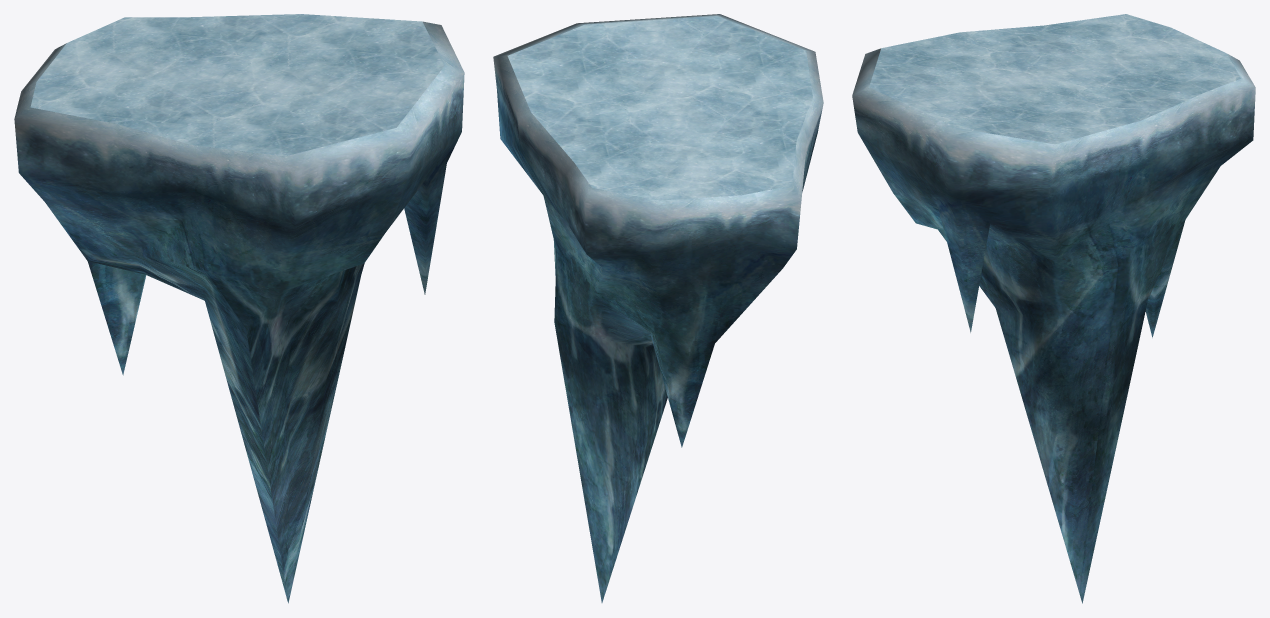
The model's file is environment_stone_dabingshi_001_d.FBX.
The picture shows the model from 3 angles, left to right: view 1: azimuth 30°, elevation 25°; view 2: azimuth 150°, elevation 25°; view 3: azimuth 270°, elevation 25°; orthographic projection. The views are drawn at different scales.
Visible parts, largest first — view 1: environment_stone_dabingshi_001_b, environment_stone_dabingshi_001_a; view 2: environment_stone_dabingshi_001_b, environment_stone_dabingshi_001_a; view 3: environment_stone_dabingshi_001_b, environment_stone_dabingshi_001_a.
Part boxes in pixels (left/top/right/bottom): environment_stone_dabingshi_001_b: left=14, top=21, right=464, bottom=603; environment_stone_dabingshi_001_a: left=30, top=14, right=444, bottom=156; environment_stone_dabingshi_001_b: left=493, top=14, right=823, bottom=602; environment_stone_dabingshi_001_a: left=507, top=16, right=812, bottom=200; environment_stone_dabingshi_001_b: left=852, top=48, right=1255, bottom=603; environment_stone_dabingshi_001_a: left=869, top=14, right=1240, bottom=144.
Bounding box in the file's own units: 965 × 1363 × 969.
Materials: 2 (2 with a texture image).
